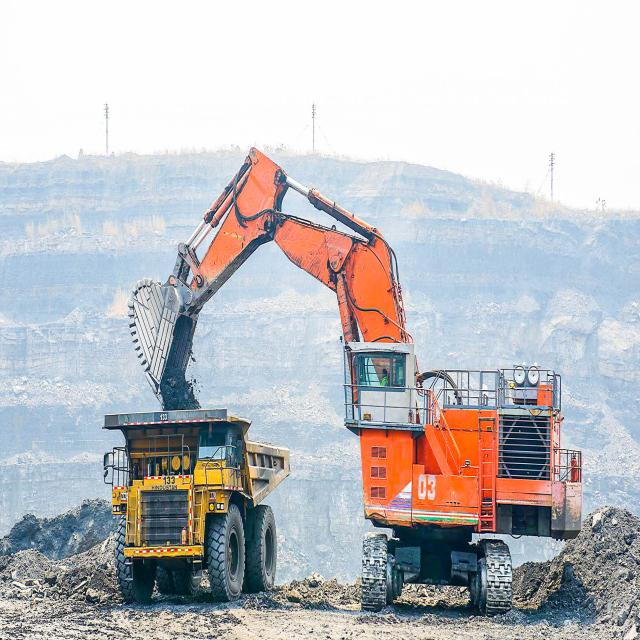dump_truck: (93, 399, 284, 605)
excavator: (104, 118, 640, 424)
